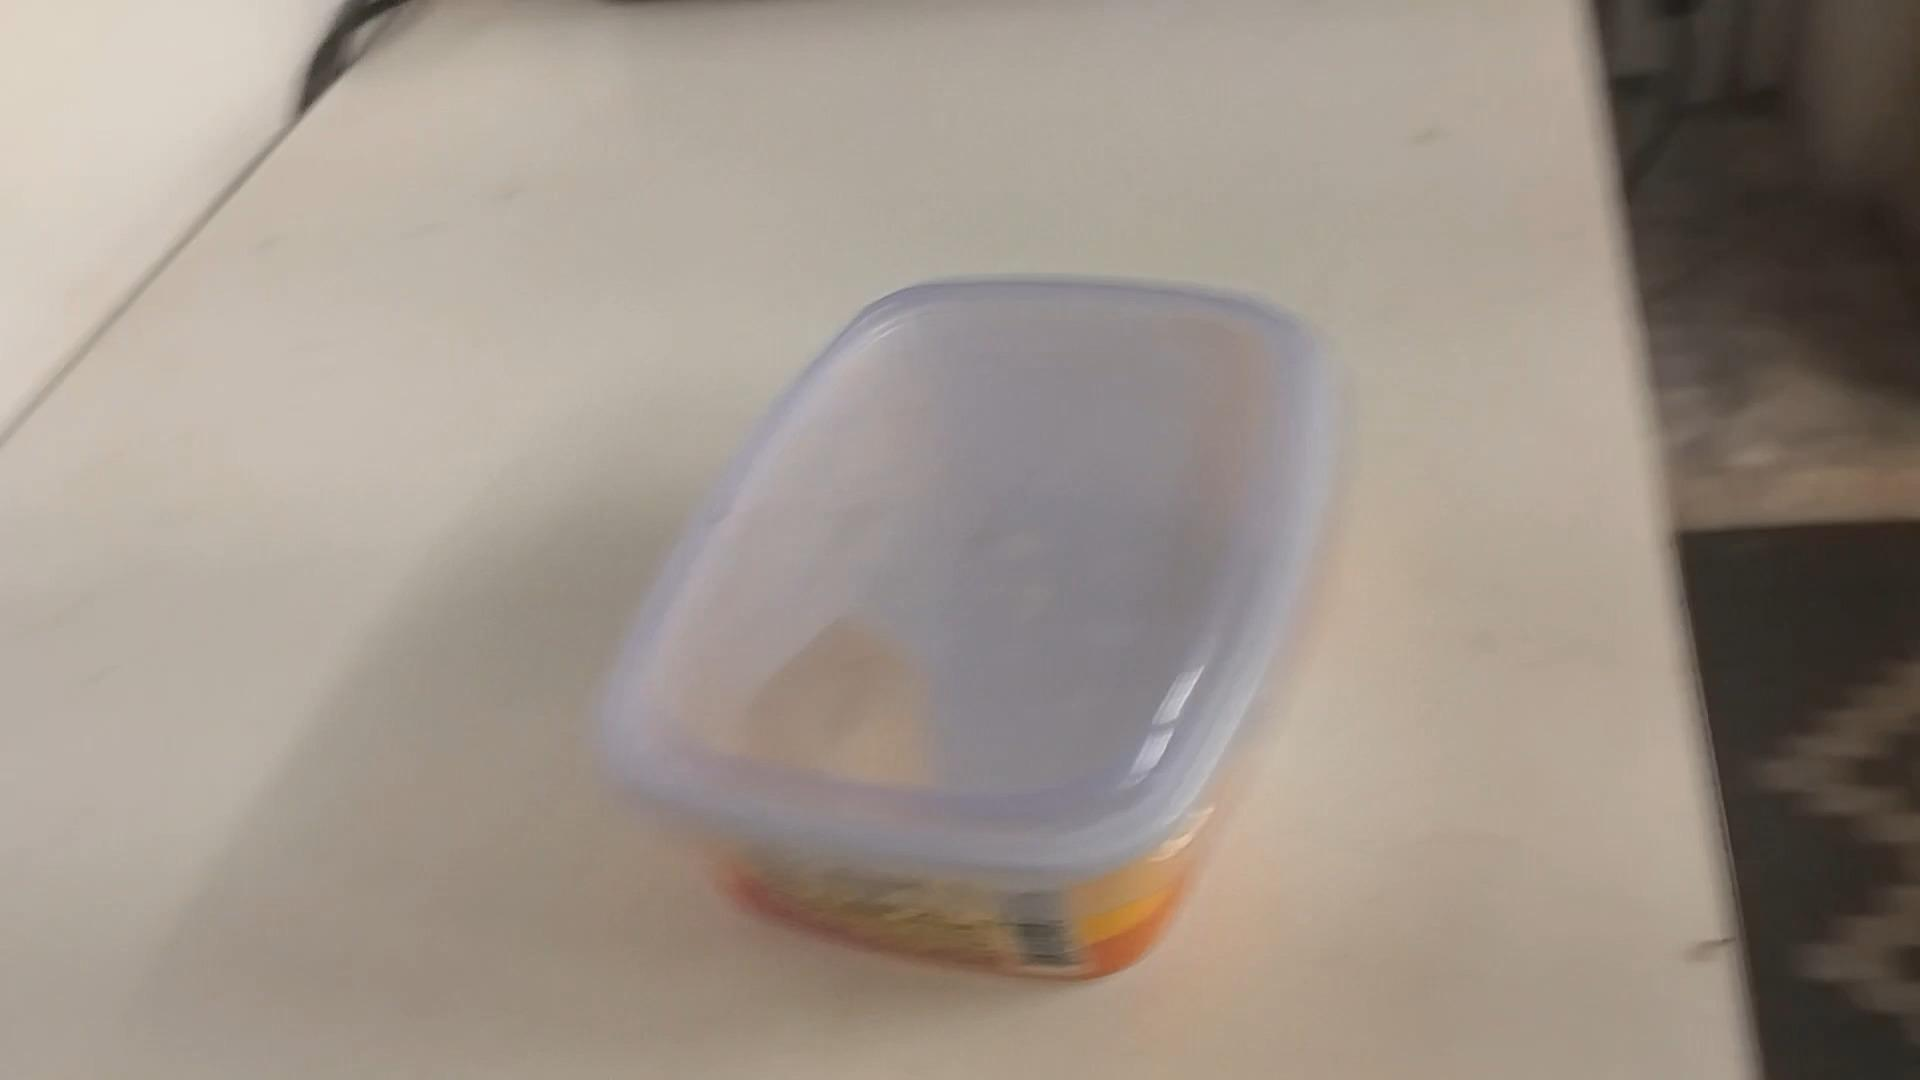butter: (588, 277, 1329, 986)
